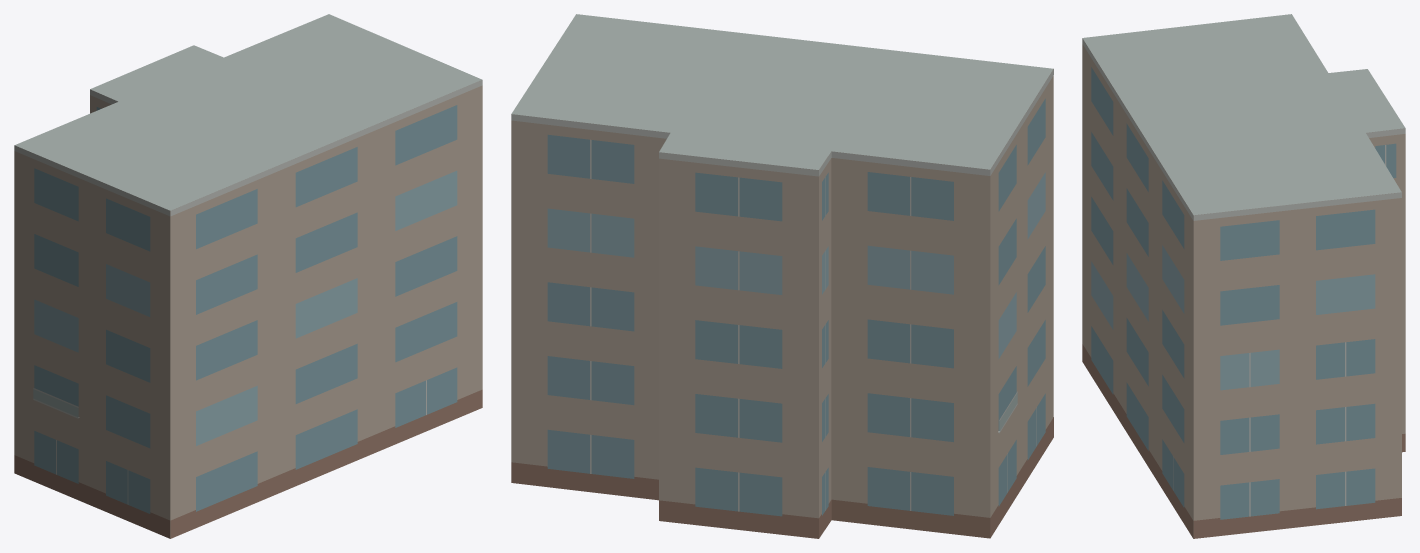
File: survey-upis-32922801.glb
The picture shows the model from 3 angles, left to right: view 1: azimuth 30°, elevation 25°; view 2: azimuth 150°, elevation 25°; view 3: azimuth 270°, elevation 25°; orthographic projection. The views are drawn at different scales.
Parts seen in each view (by area): view 1: survey-upis-32922801.tmp; view 2: survey-upis-32922801.tmp; view 3: survey-upis-32922801.tmp.
Part boxes in pixels (left/top/right/bottom): survey-upis-32922801.tmp: left=14, top=14, right=482, bottom=538; survey-upis-32922801.tmp: left=511, top=14, right=1053, bottom=538; survey-upis-32922801.tmp: left=1082, top=14, right=1405, bottom=538.
Bounding box in the file's own units: 18.69 × 14 × 12.68.
